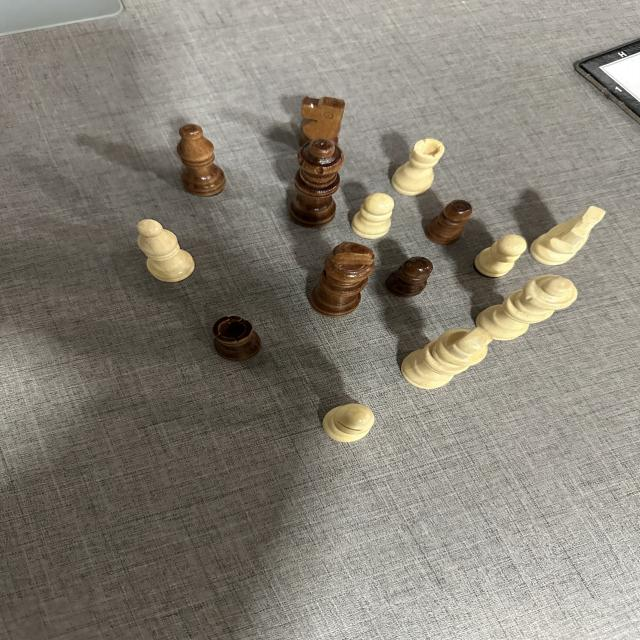Black-Bishop: (176, 124, 226, 198)
Black-King: (310, 242, 376, 318)
Black-Knight: (300, 96, 345, 140)
Black-Pawn: (424, 200, 473, 247), (386, 256, 434, 298)
Black-Queen: (289, 139, 344, 229)
Black-Rook: (212, 316, 263, 362)
White-Bishop: (136, 220, 196, 283), (324, 403, 374, 442)
White-King: (401, 327, 493, 390)
White-Knight: (529, 206, 606, 266)
White-Pawn: (474, 234, 528, 278), (352, 192, 394, 240)
White-Queen: (474, 274, 580, 341)
White-Rook: (390, 138, 446, 196)
